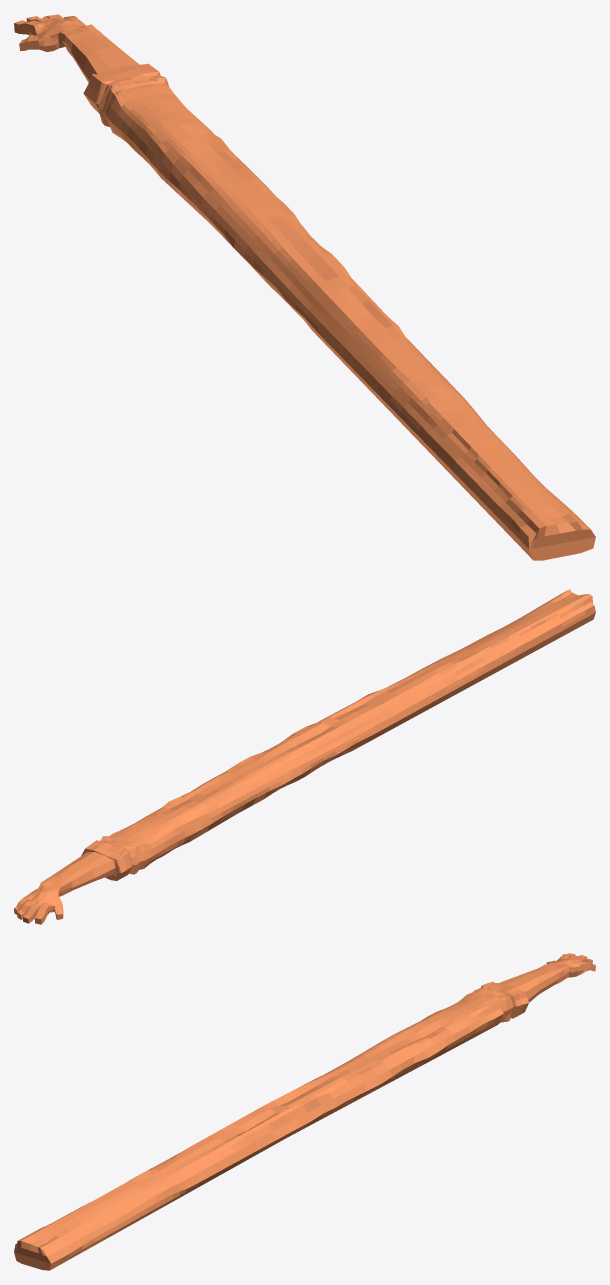
Rendered from frame1_hand_3.0.obj.
The picture shows the model from 3 angles, top to bottom: view 1: azimuth 30°, elevation 25°; view 2: azimuth 150°, elevation 25°; view 3: azimuth 330°, elevation 25°; orthographic projection. The views are drawn at different scales.
Parts seen in each view (by area): view 1: Cube.001, Cube; view 2: Cube.001, Cube; view 3: Cube.001, Cube.
Boxes of the visible parts, x1,y1,x2,y2 form: Cube.001: [83, 63, 595, 560]; Cube: [14, 14, 138, 82]; Cube.001: [81, 589, 595, 880]; Cube: [14, 852, 115, 924]; Cube.001: [14, 981, 528, 1270]; Cube: [480, 953, 595, 1019].
Bounding box in the file's own units: 6.87 × 1.41 × 39.2.
